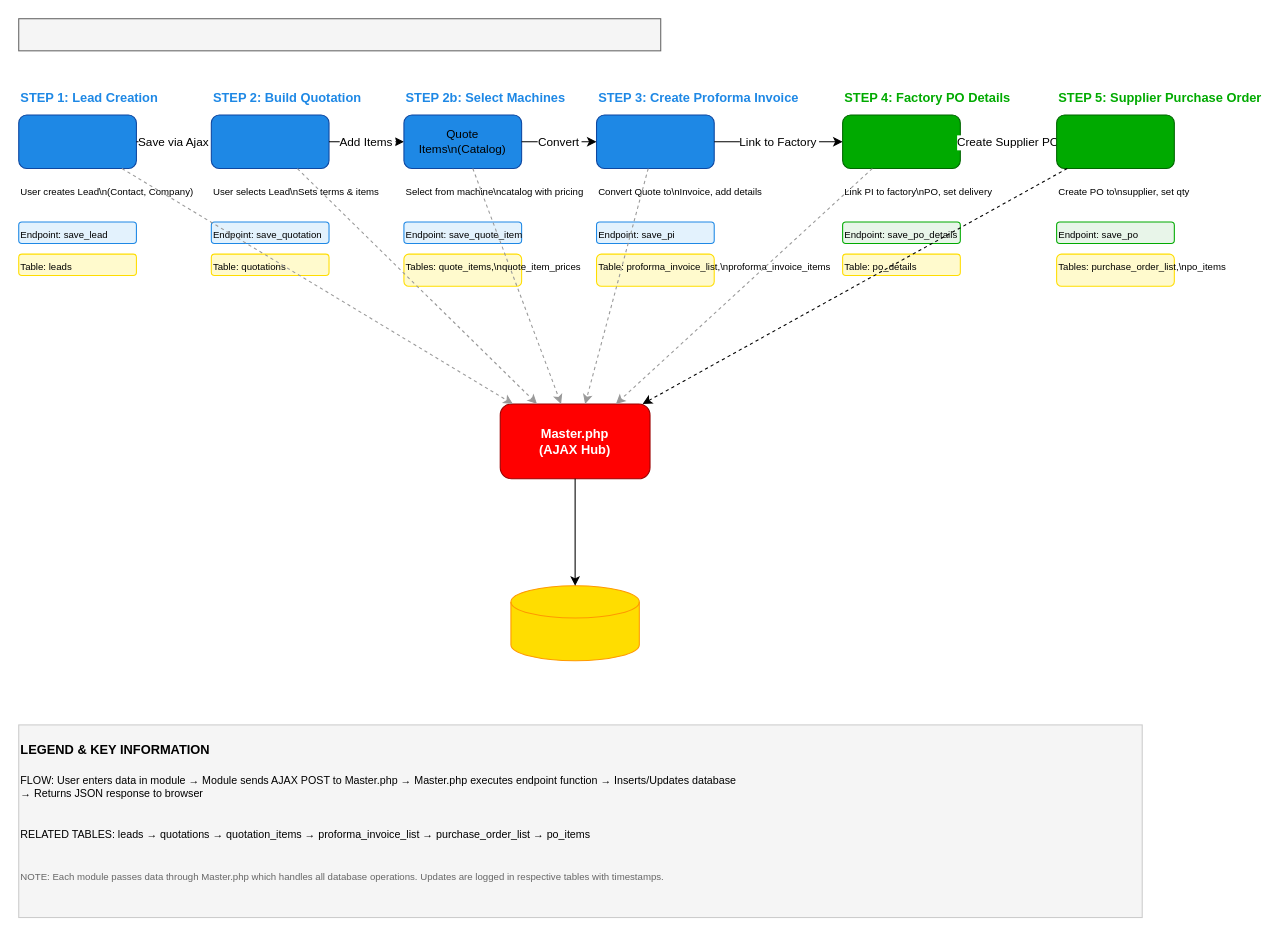
The diagram is 1281 pixels wide and 936 high, and some of its shapes have lost their labels. The shapes that lost their labels are listed below. From the top down, each one's box as (x1, y1, x2, y2) in pixels, then its label:
(18, 18, 661, 51): WORKFLOW 1: Lead → Quotation → Proforma Invoice → Purchase Order
(18, 114, 136, 169): Leads Module
(210, 114, 329, 169): Quotations Module
(595, 114, 714, 169): Proforma Invoice\nModule
(842, 114, 960, 169): PO Details Module\n(Factory PO)
(1056, 114, 1174, 169): Purchase Orders\nModule
(510, 585, 639, 661): MySQL Database
